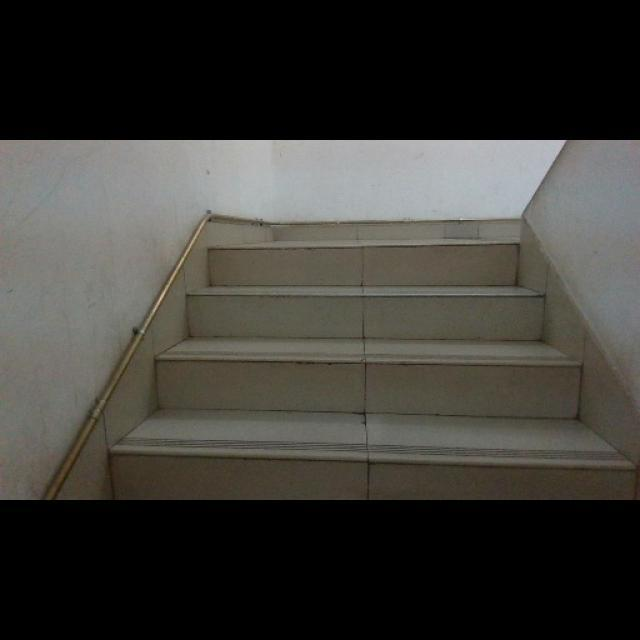stair: (104, 244, 574, 488)
